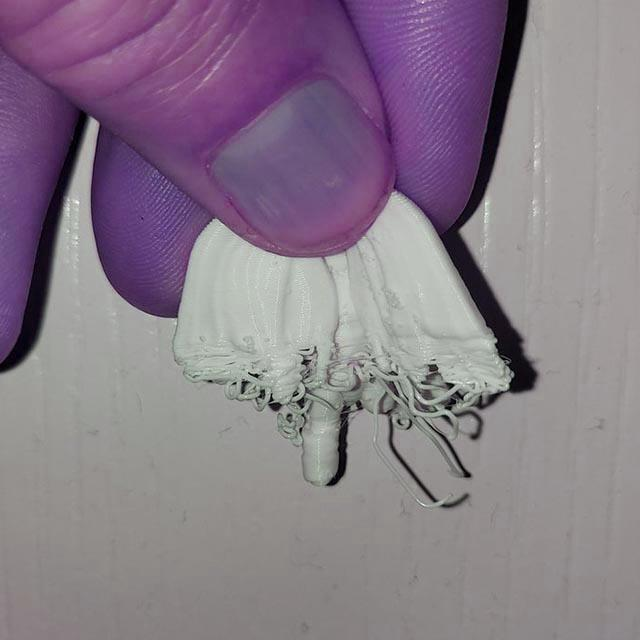Spaghetti: (181, 340, 514, 510)
